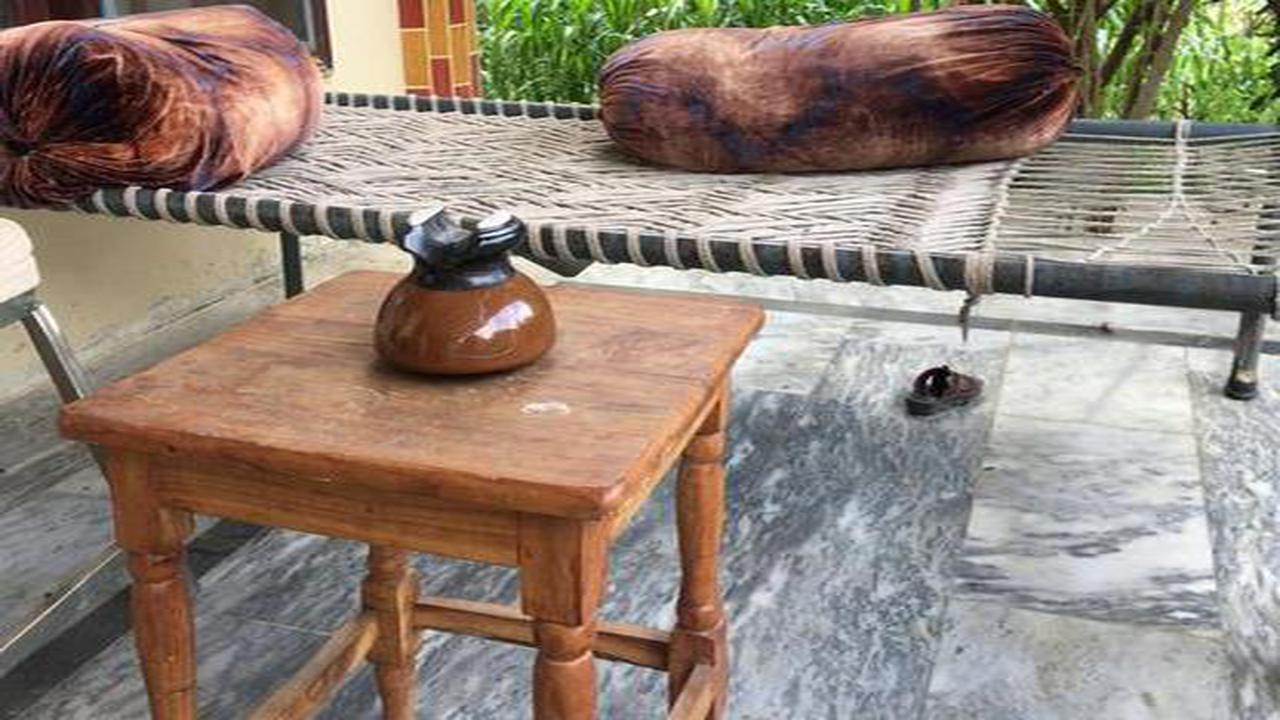insulator_pin: (361, 188, 570, 385)
